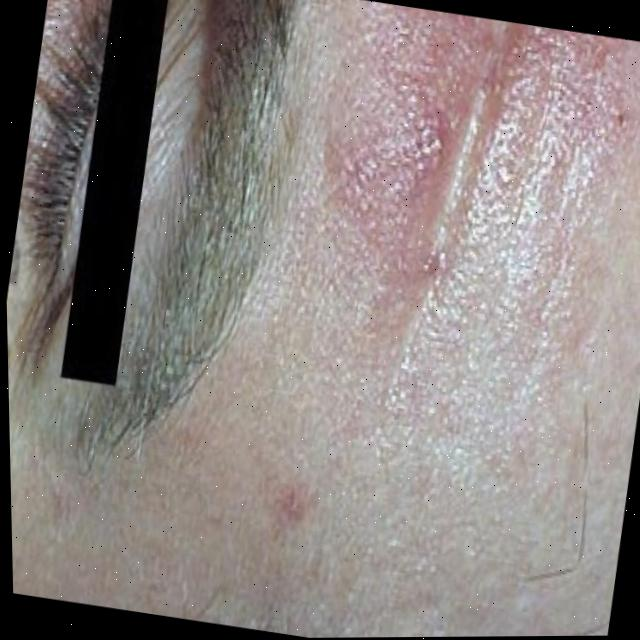Rosacea: (315, 0, 634, 332), (276, 474, 314, 527)
